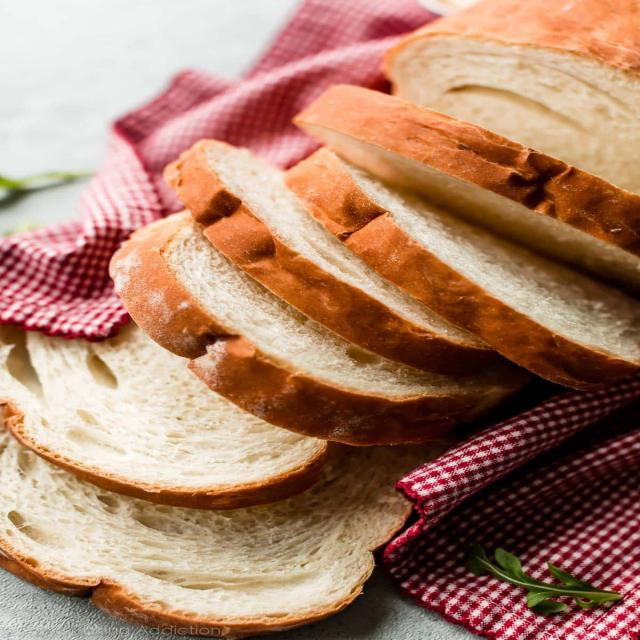Bread: (111, 211, 531, 445), (2, 430, 444, 638), (285, 148, 639, 389), (165, 139, 499, 375), (294, 85, 639, 289), (0, 322, 328, 509), (384, 0, 639, 192)
